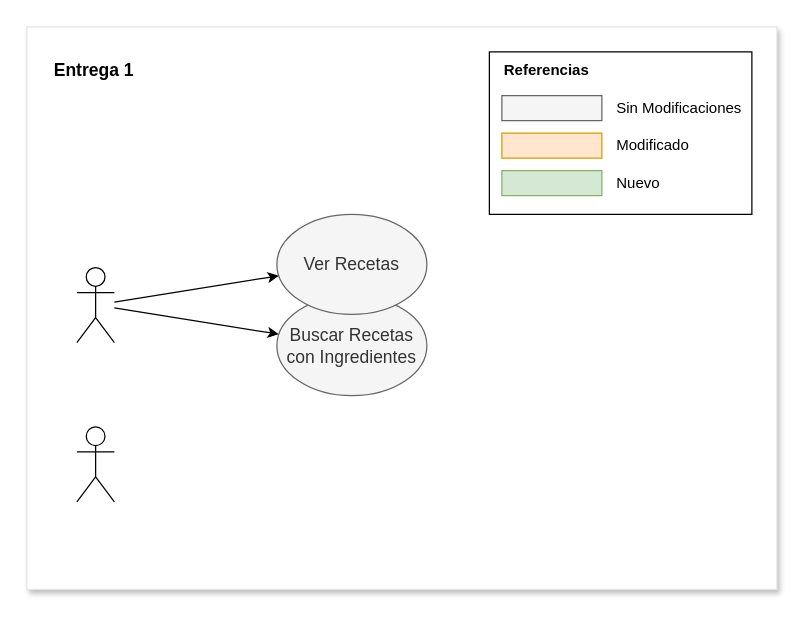
This 806x620 diagram has some shape labels left out. The shapes that lost their labels are listed below. From the top down, each one's centre as x and y in pixels, then its label:
At point (95, 304): "Usuario Anónimo".
At point (95, 464): "Usuario Registrado".
